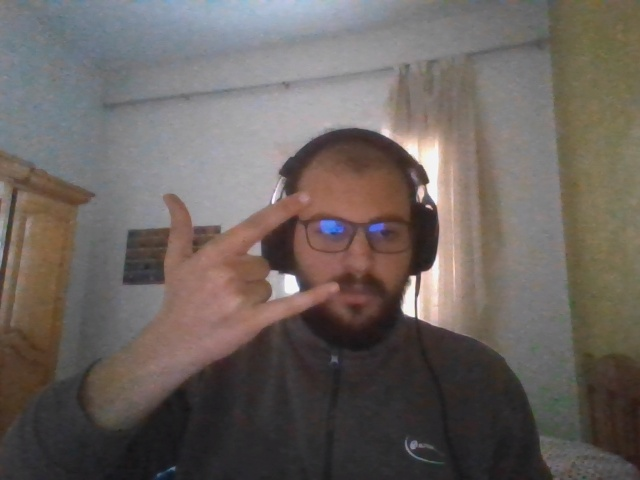I Love You: (160, 193, 341, 359)
